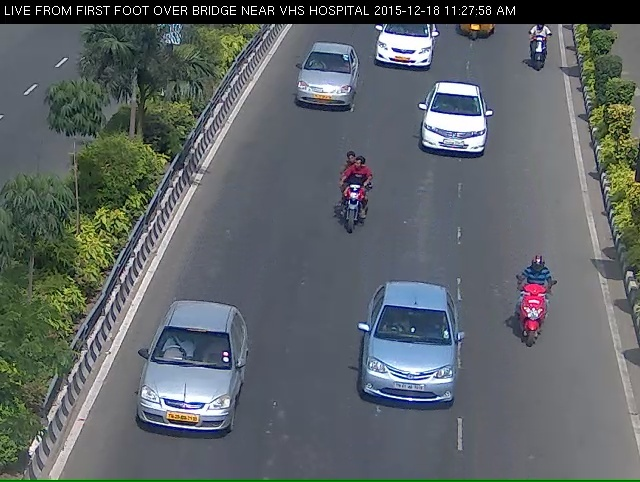Car: (123, 315, 233, 468), (356, 298, 466, 445), (415, 90, 500, 175), (284, 47, 357, 130), (369, 21, 435, 79)
Person: (515, 285, 568, 378), (331, 161, 370, 256), (519, 25, 553, 81)
